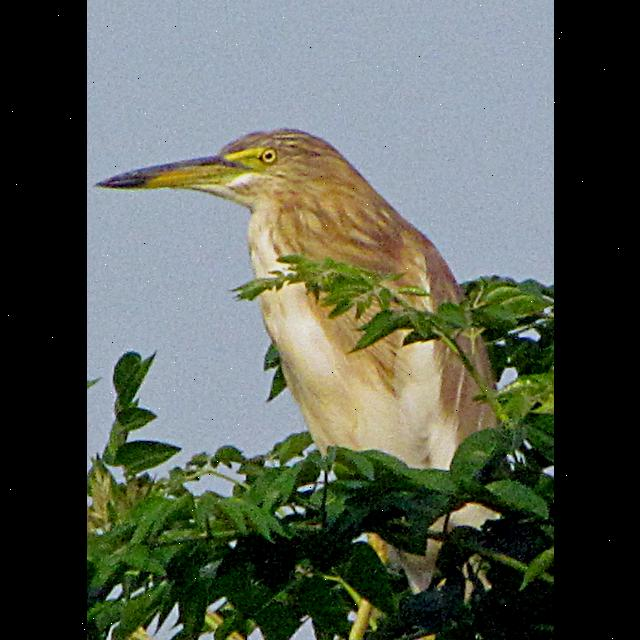heron: (90, 120, 508, 554)
